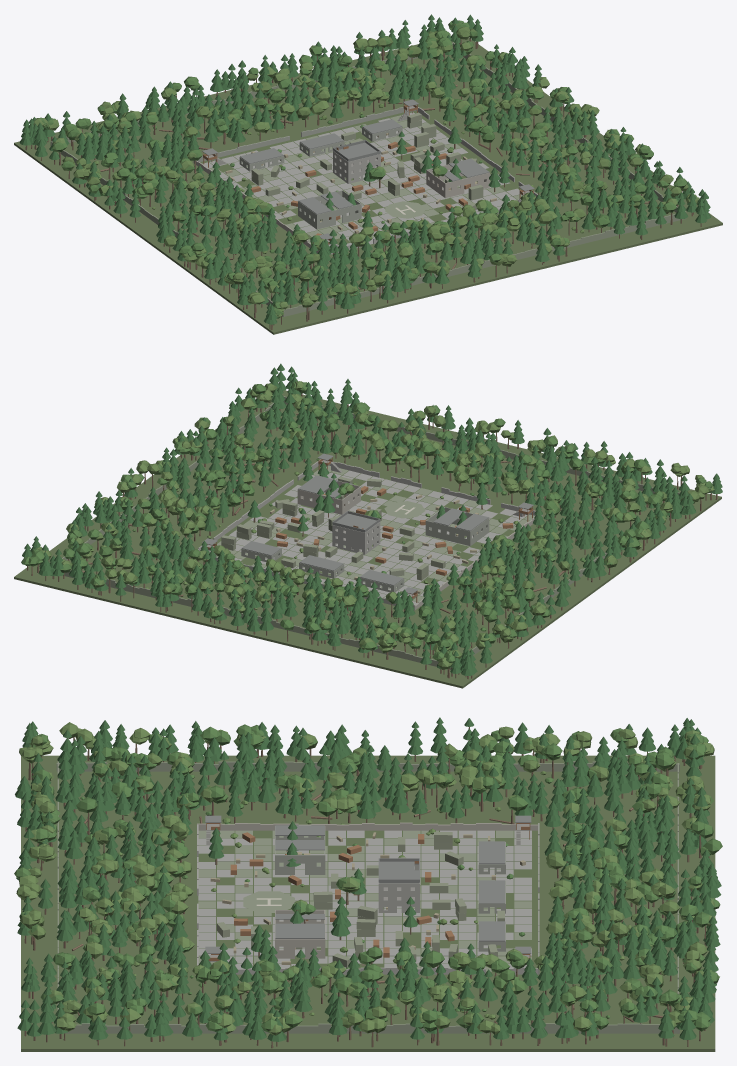
Rendered from br_forest.glb.
The picture shows the model from 3 angles, top to bottom: view 1: azimuth 30°, elevation 25°; view 2: azimuth 150°, elevation 25°; view 3: azimuth 270°, elevation 25°; orthographic projection. The views are drawn at different scales.
Parts seen in each view (by area): view 1: Foliage, Ground, Buildings, Cover; view 2: Foliage, Ground, Buildings, Cover; view 3: Foliage, Ground, Buildings, Cover.
Part boxes in pixels (box(x1,y1,x2,y2)): Foliage: box(19, 14, 710, 324); Ground: box(14, 36, 722, 334); Buildings: box(25, 24, 705, 330); Cover: box(225, 112, 496, 235); Foliage: box(21, 363, 722, 675); Ground: box(14, 390, 721, 688); Buildings: box(27, 371, 717, 679); Cover: box(221, 476, 513, 593); Foliage: box(14, 717, 722, 1041); Ground: box(21, 755, 715, 1051); Buildings: box(23, 727, 712, 1048); Cover: box(210, 832, 525, 967).
Size of the model in its own units: 230 by 17.07 by 229.
